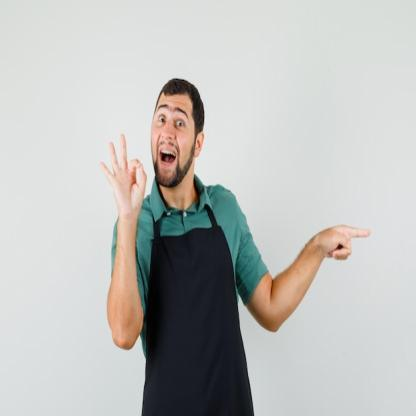ok: (99, 129, 146, 218)
